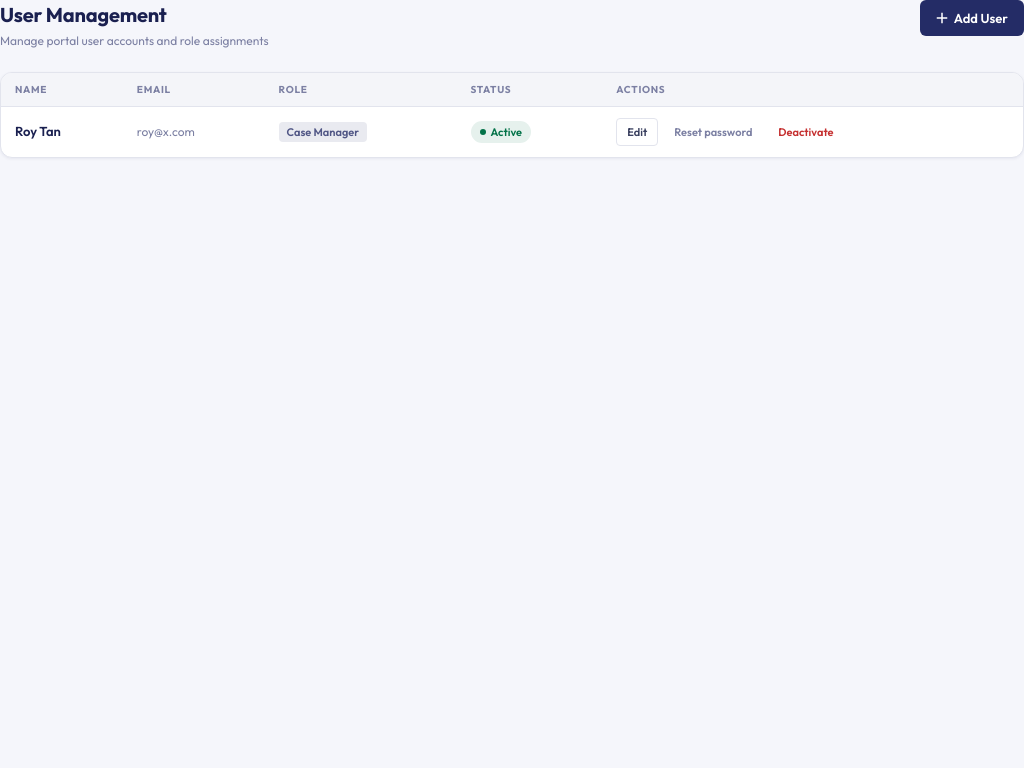
Scenario: UserManagementPage — resetting a password › confirms where the password went
This screenshot has width=1024, height=768.
Click the button "Reset password": click(713, 132) [664,118,762,146]
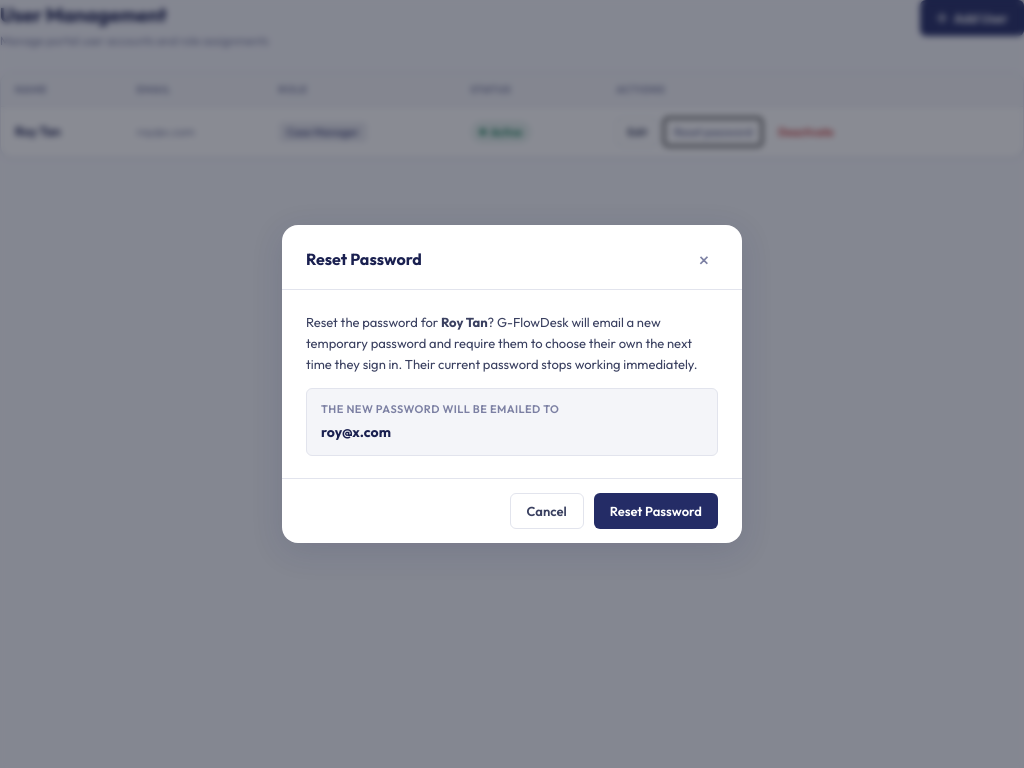
Click the button "Reset Password": click(656, 511) [594,493,718,529]
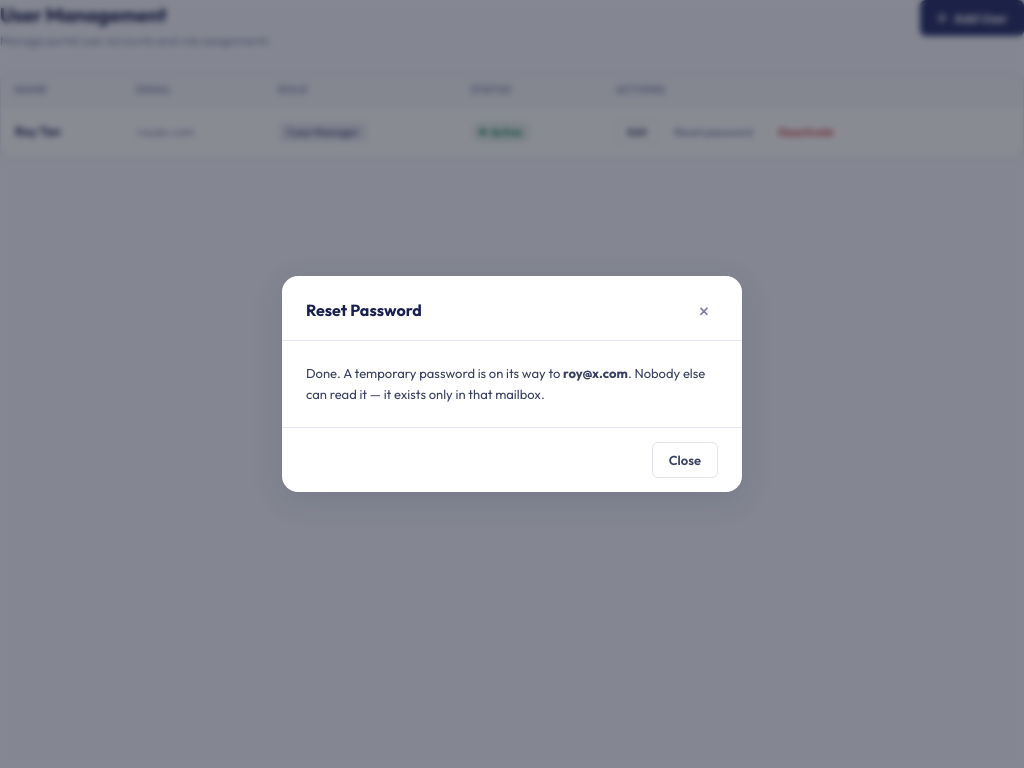
Now the text "on its way to" is shown, box [306,365,563,381]
